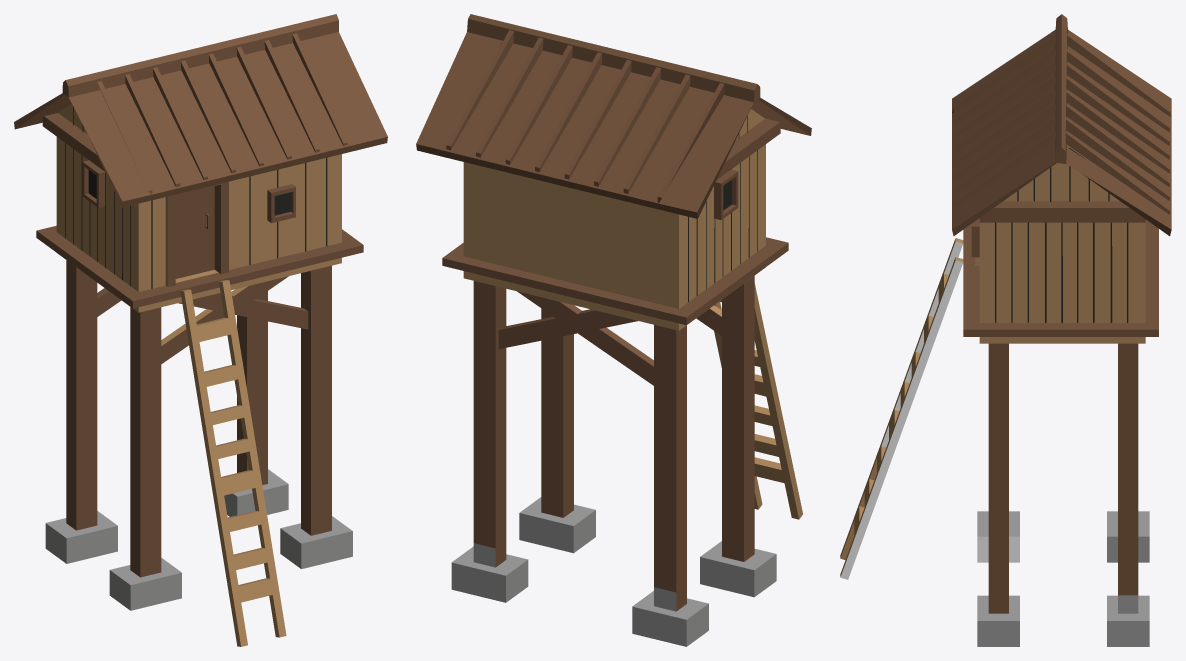
Rendered from medieval4_updated.fbx.
The picture shows the model from 3 angles, left to right: view 1: azimuth 30°, elevation 25°; view 2: azimuth 150°, elevation 25°; view 3: azimuth 270°, elevation 25°; orthographic projection. The views are drawn at different scales.
Parts seen in each view (by area): view 1: Cube.018; view 2: Cube.018; view 3: Cube.018.
Boxes of the visible parts, x1,y1,x2,y2 form: Cube.018: (14, 14, 387, 646); Cube.018: (416, 14, 811, 646); Cube.018: (840, 14, 1171, 646).
Size of the model in its own units: 1950 by 3465 by 2033.
